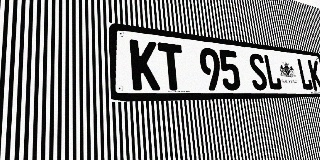5: (218, 49, 242, 90)
9: (198, 47, 223, 90)
K: (130, 39, 160, 90), (307, 59, 320, 90)
L: (263, 54, 283, 90), (296, 58, 313, 90)
S: (248, 53, 269, 90)
T: (157, 42, 186, 90)
